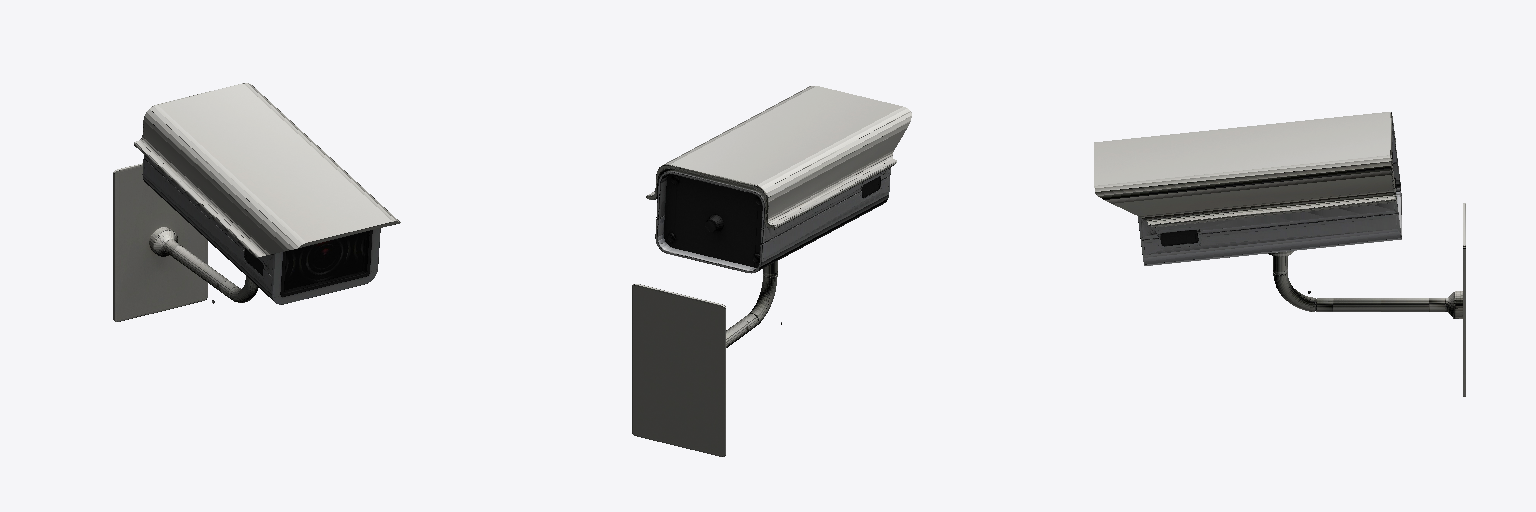
The picture shows the model from 3 angles: view 1: azimuth 30°, elevation 25°; view 2: azimuth 150°, elevation 25°; view 3: azimuth 270°, elevation 25°; orthographic projection.
Visible parts, largest first — view 1: S3; view 2: S3; view 3: S3.
Boxes of the visible parts, box(x1,y1,x2,y2) form: S3: box(113, 83, 400, 321); S3: box(632, 86, 911, 456); S3: box(1094, 112, 1465, 396).
Size of the model in its own units: 12.92 by 23.19 by 32.12.
Materials: 1 (1 with a texture image).